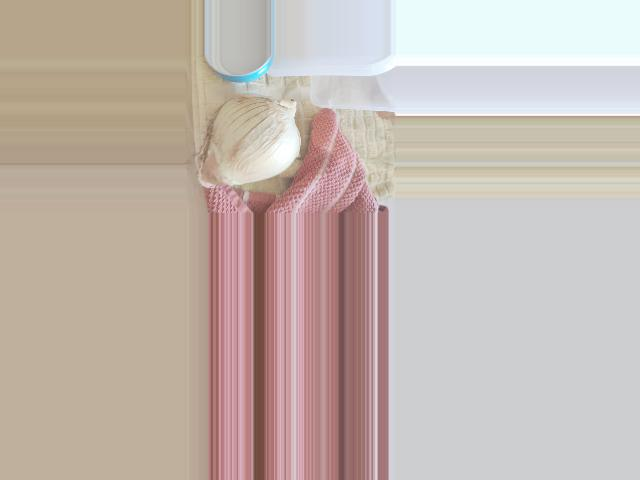onion: (199, 92, 299, 188)
